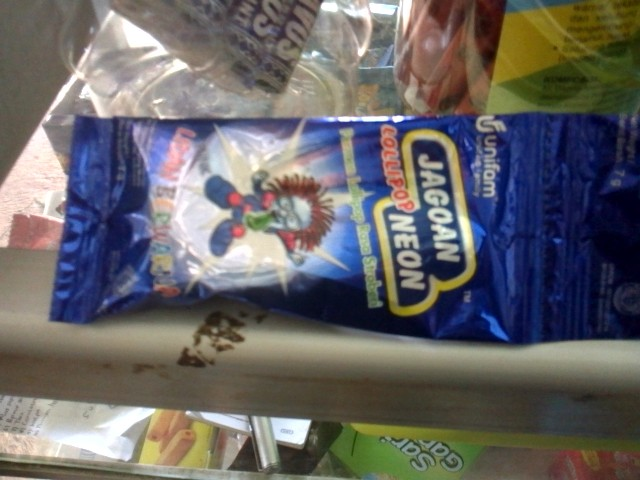jagoan neon: (48, 111, 554, 346)
